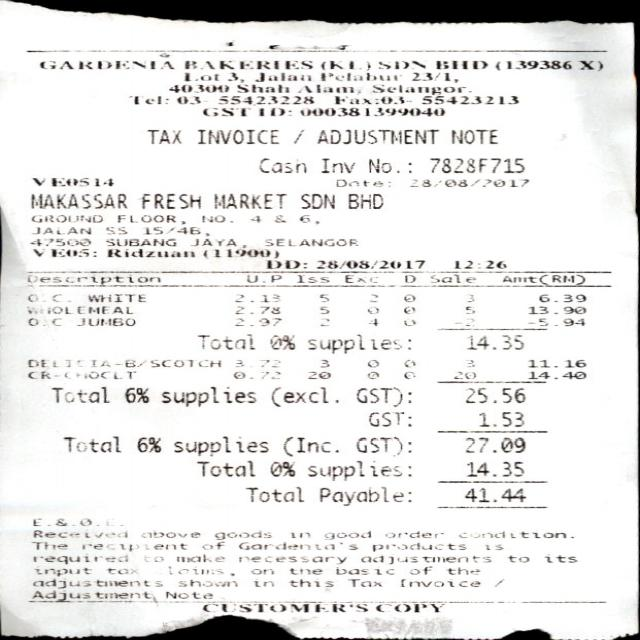text: (171, 435, 266, 456), (306, 334, 410, 353), (307, 460, 410, 479), (160, 385, 253, 405), (315, 128, 436, 143), (202, 602, 366, 612), (318, 486, 409, 504), (29, 193, 124, 208), (38, 59, 172, 69), (428, 158, 522, 172), (182, 59, 312, 69), (298, 106, 442, 115), (196, 128, 277, 144), (269, 386, 335, 405), (26, 274, 160, 283), (31, 590, 148, 600), (32, 578, 160, 587), (235, 541, 356, 550), (212, 193, 284, 208), (369, 83, 464, 94), (281, 436, 336, 455), (320, 59, 424, 69), (360, 555, 490, 563), (140, 192, 201, 208), (314, 259, 422, 268), (355, 387, 409, 405), (196, 459, 253, 476), (369, 542, 464, 552), (408, 178, 526, 186), (195, 333, 252, 349), (464, 487, 524, 502), (215, 95, 314, 104), (243, 486, 301, 501), (355, 436, 409, 452), (26, 370, 133, 378), (465, 334, 522, 349), (465, 387, 522, 402), (465, 436, 522, 451), (80, 543, 186, 551), (51, 386, 107, 401), (62, 436, 118, 451), (493, 59, 569, 70), (27, 305, 130, 313), (501, 274, 582, 284), (467, 460, 520, 475), (106, 248, 193, 257), (420, 94, 516, 102), (262, 238, 356, 246), (477, 410, 524, 426), (458, 530, 564, 537), (239, 555, 344, 562), (201, 248, 276, 257), (122, 359, 218, 366), (32, 555, 126, 562), (32, 529, 125, 536), (258, 157, 304, 171), (30, 177, 110, 185), (399, 578, 479, 586), (451, 128, 496, 142), (367, 412, 411, 426), (375, 603, 442, 612), (212, 529, 270, 539), (26, 359, 108, 366), (34, 566, 90, 576), (332, 94, 401, 102), (116, 214, 184, 222), (318, 72, 394, 79), (451, 259, 504, 269), (31, 248, 95, 256), (298, 193, 332, 208), (348, 193, 382, 208), (143, 226, 206, 234), (435, 59, 485, 69), (104, 238, 174, 245), (86, 293, 146, 301), (524, 359, 584, 367), (321, 529, 369, 539), (201, 106, 248, 116), (168, 83, 226, 91), (526, 370, 584, 378), (147, 129, 180, 143), (320, 158, 352, 172), (168, 568, 232, 575), (297, 84, 352, 92), (367, 158, 398, 172), (235, 84, 289, 92), (255, 72, 308, 80), (31, 215, 101, 221), (28, 238, 88, 245), (138, 530, 197, 537), (177, 579, 236, 586), (383, 530, 441, 537), (528, 306, 585, 313), (411, 72, 455, 81), (527, 318, 583, 325), (174, 554, 222, 562), (35, 226, 89, 233), (268, 334, 295, 348), (232, 370, 278, 378), (164, 590, 210, 598), (127, 94, 167, 103), (265, 259, 305, 268), (233, 294, 278, 302), (233, 306, 278, 314), (233, 318, 278, 326), (269, 461, 293, 476), (429, 274, 473, 282), (287, 578, 330, 586), (334, 568, 391, 574), (123, 387, 145, 402), (537, 294, 584, 301), (189, 238, 234, 245), (81, 318, 132, 324), (137, 437, 158, 451), (244, 274, 280, 282), (335, 179, 381, 185), (342, 274, 376, 282), (446, 566, 479, 574), (258, 107, 290, 115), (542, 554, 574, 562), (577, 60, 601, 70), (296, 274, 326, 282), (350, 578, 380, 586), (182, 72, 216, 79), (199, 541, 223, 550), (408, 565, 431, 574), (175, 95, 199, 103), (286, 567, 318, 573), (107, 568, 138, 574), (26, 317, 52, 324), (200, 215, 230, 221), (34, 542, 64, 548), (452, 371, 475, 378), (290, 128, 301, 142), (257, 360, 279, 367), (308, 371, 329, 378), (142, 555, 163, 562), (506, 555, 527, 562), (104, 226, 124, 233), (481, 543, 501, 550), (228, 71, 241, 81), (252, 580, 272, 586), (50, 293, 61, 302), (317, 305, 328, 314), (366, 306, 378, 314), (316, 318, 328, 326), (401, 371, 413, 379), (289, 532, 308, 537), (400, 294, 413, 301), (77, 518, 90, 525), (297, 214, 308, 222), (273, 214, 284, 222), (403, 274, 414, 282), (316, 293, 327, 301), (253, 568, 270, 573), (248, 215, 260, 222), (401, 318, 413, 325), (25, 293, 35, 301), (367, 293, 377, 301), (401, 306, 412, 313), (366, 371, 377, 378), (54, 518, 65, 525), (463, 293, 472, 301), (464, 306, 474, 313), (367, 318, 377, 325), (365, 359, 375, 366), (402, 360, 412, 367), (464, 360, 474, 367), (30, 518, 40, 525), (233, 360, 242, 367), (318, 359, 326, 366)
